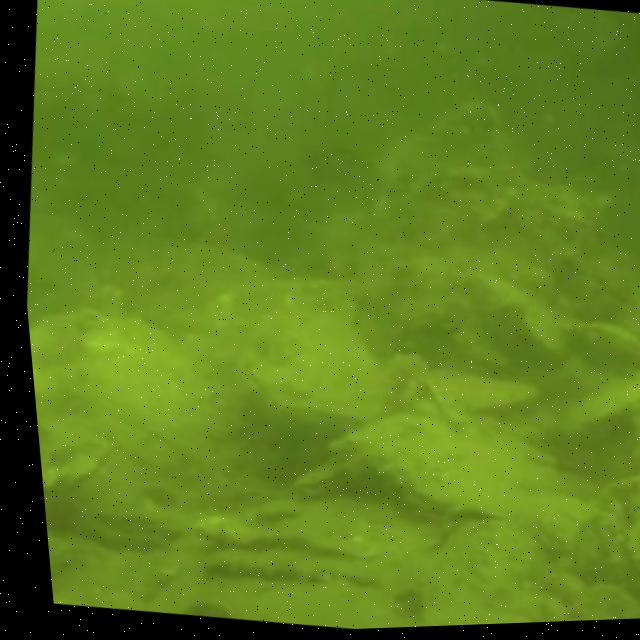Oyster-Indeterminate: (337, 406, 565, 528), (223, 299, 391, 425)
